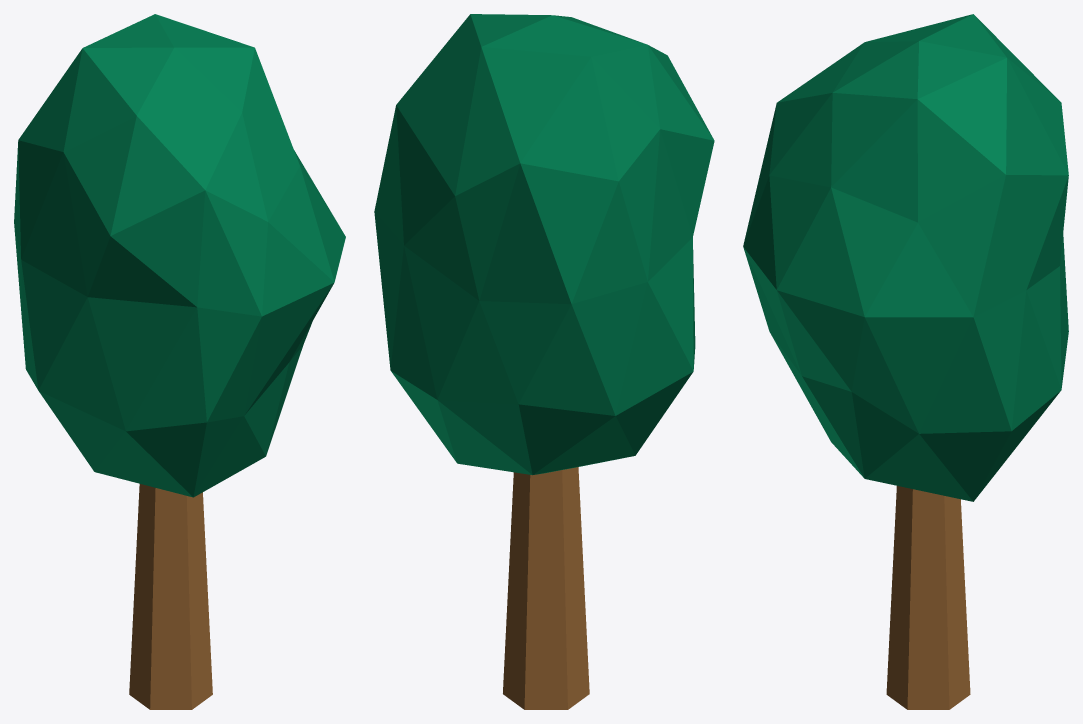
The model's file is treeB.FBX.
The picture shows the model from 3 angles, left to right: view 1: azimuth 30°, elevation 25°; view 2: azimuth 150°, elevation 25°; view 3: azimuth 270°, elevation 25°; orthographic projection. The views are drawn at different scales.
Visible parts, largest first — view 1: treeB; view 2: treeB; view 3: treeB.
Part boxes in pixels (left/top/right/bottom): treeB: left=14, top=14, right=345, bottom=709; treeB: left=374, top=14, right=714, bottom=709; treeB: left=743, top=14, right=1068, bottom=709.
Bounding box in the file's own units: 3.54 × 7.84 × 3.55.
